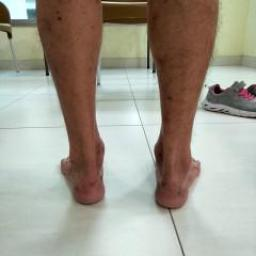Back View -Both Feet-: (44, 126, 216, 220)
